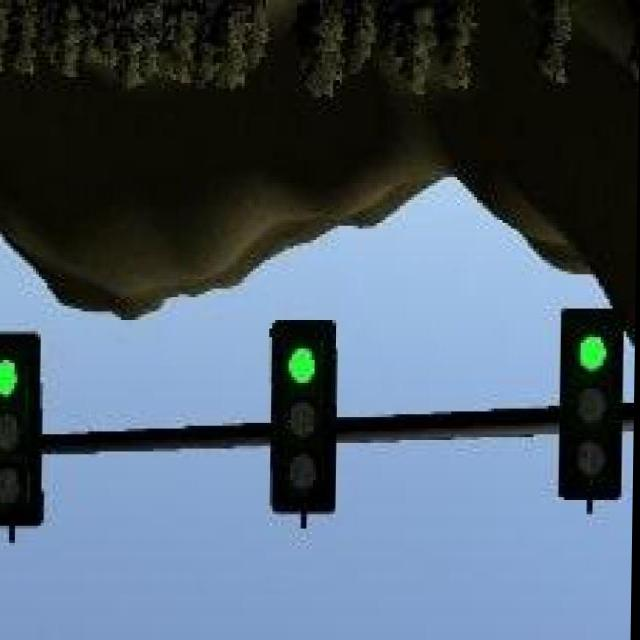green light: (560, 308, 628, 500), (274, 322, 336, 514), (0, 328, 47, 525)
